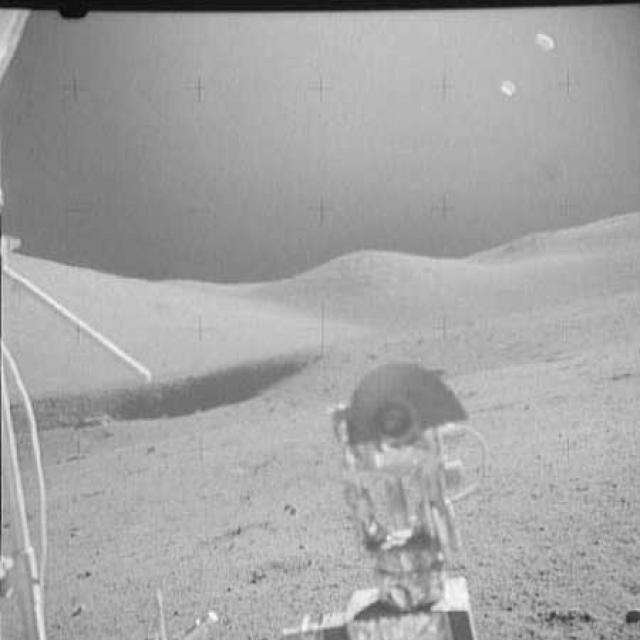artifact: (0, 11, 152, 638), (283, 360, 495, 639)
crater: (102, 360, 319, 416)
